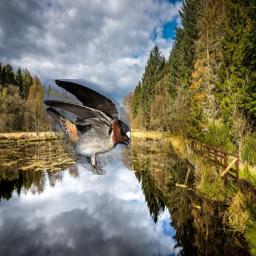Swallow: (43, 79, 131, 175)
